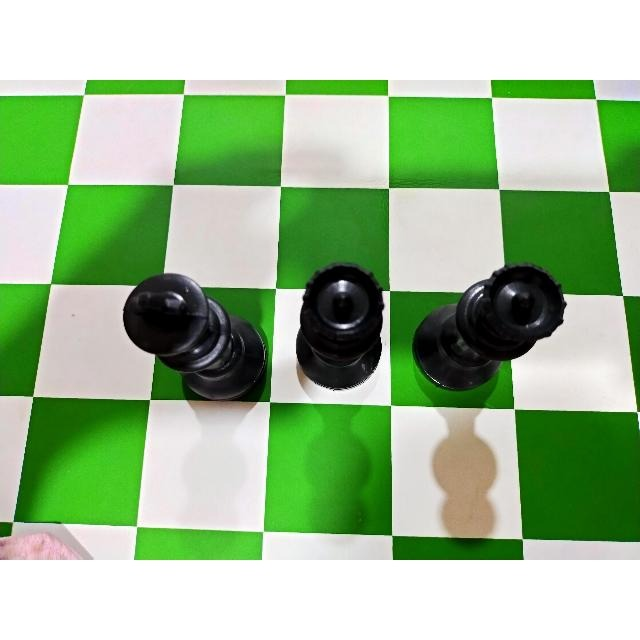black-king: (117, 266, 272, 406)
black-queen: (405, 258, 573, 400), (291, 256, 391, 392)
